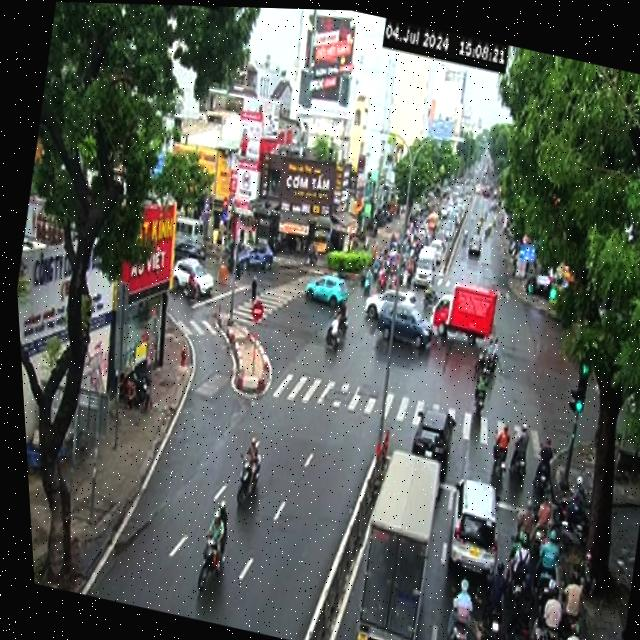Green: (564, 349, 592, 419), (514, 269, 562, 306), (563, 427, 573, 450)
